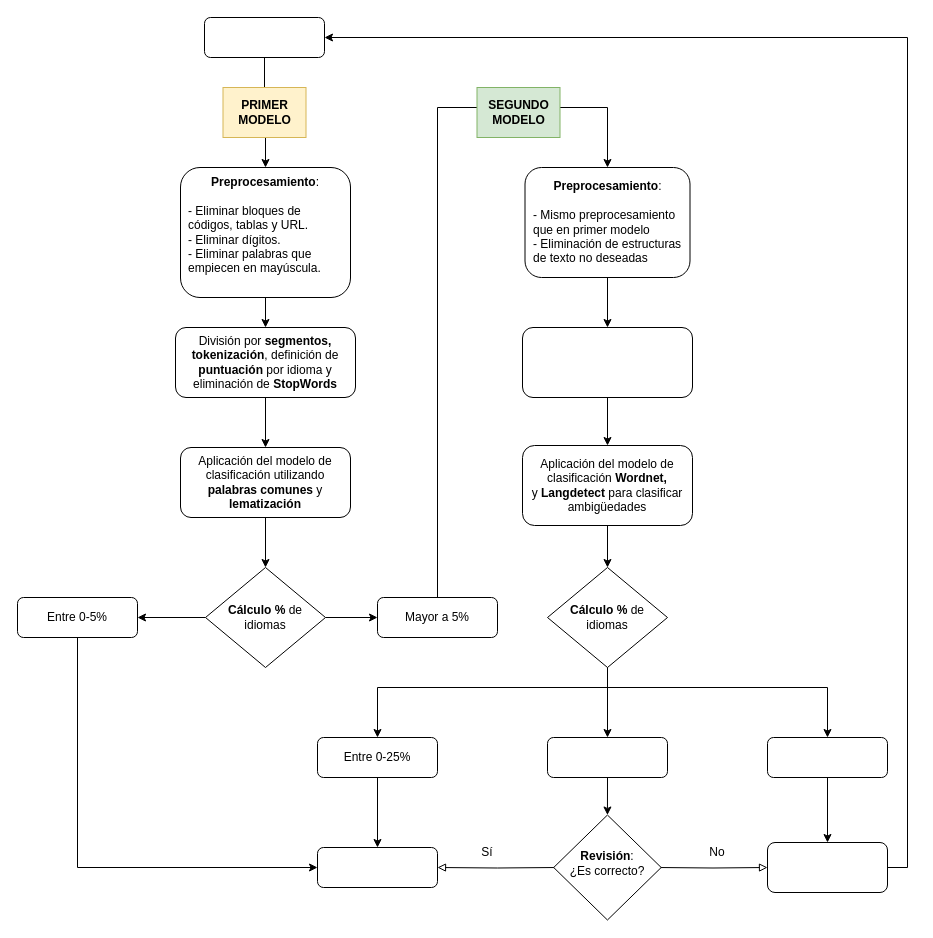
Image size: 933x938. Some labels were removed from this diagram. Each missing label, with the centre of its shape:
Archivo.md: the point at 264,37
Eliminación de StopWords y palabras coincidentes en ambos idiomas: the point at 607,362
Entre 25-40%: the point at 607,757
Entre 40-50%: the point at 827,757
Fracaso : Enviar al responsable: the point at 827,867
Éxito : Siguiente Módulo: the point at 377,867
